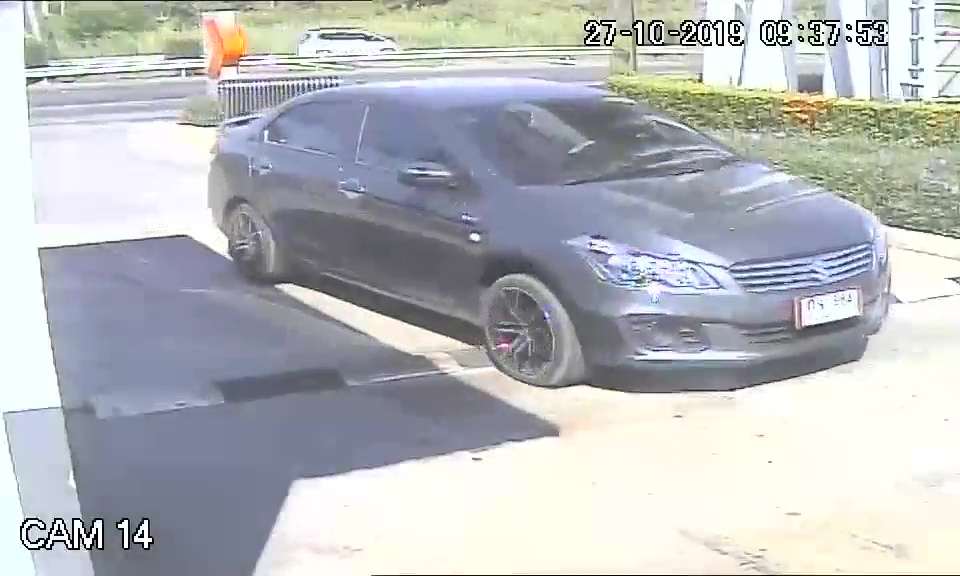sedan: (207, 75, 894, 392)
